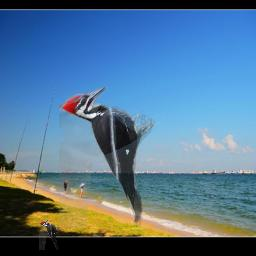Woodpecker: (59, 87, 155, 228), (39, 219, 60, 250)
